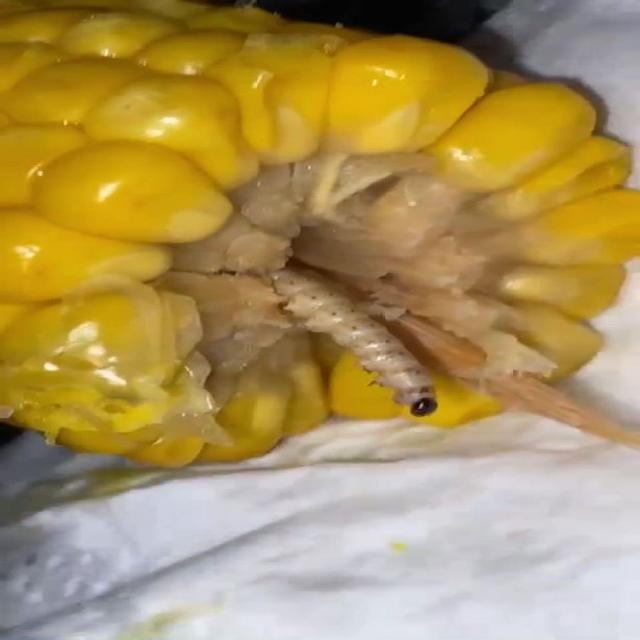cornborer-Larva-: (240, 260, 455, 426)
